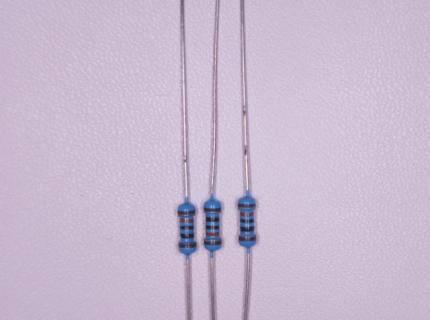Black band: (240, 226, 254, 232), (180, 233, 194, 238), (240, 218, 254, 223), (180, 225, 193, 230), (206, 217, 219, 222), (206, 225, 218, 230)
Brown band: (177, 210, 195, 215), (178, 243, 196, 248), (204, 240, 222, 245), (238, 203, 255, 208), (239, 236, 256, 241), (204, 208, 221, 212)
Orange band: (180, 219, 194, 223), (240, 212, 254, 216), (206, 232, 219, 236)
